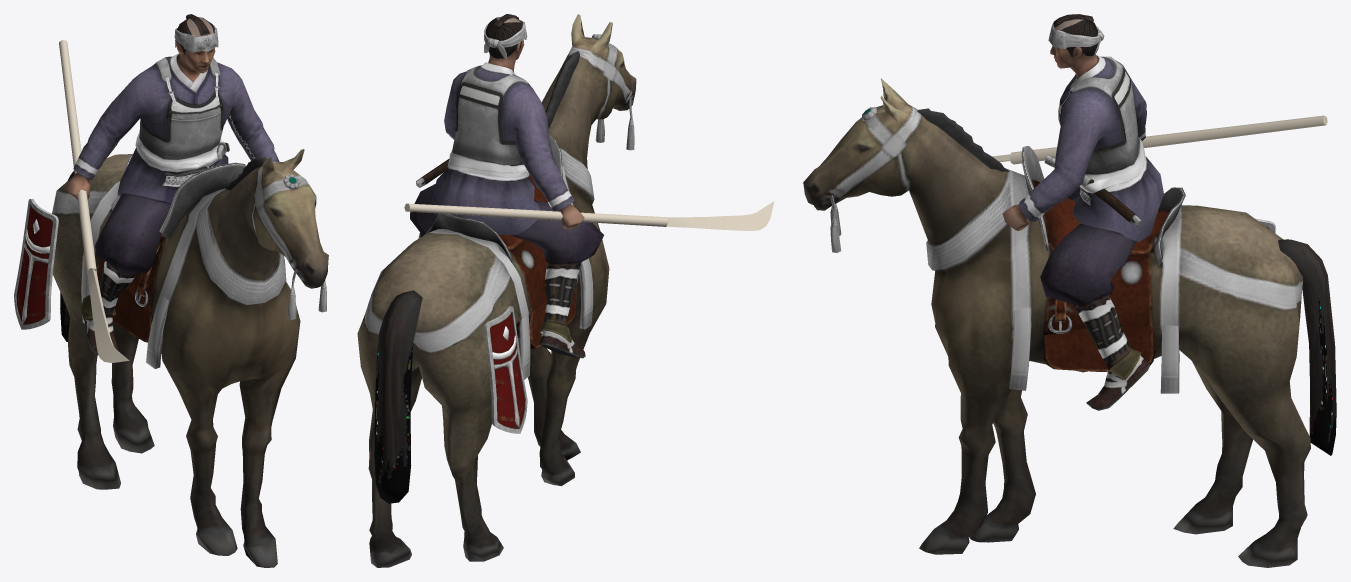
The model's file is 182-naginatarider.glb.
3 views of the same model, side by side, from view 1: azimuth 30°, elevation 25°; view 2: azimuth 150°, elevation 25°; view 3: azimuth 270°, elevation 25° (orthographic). The views are drawn at different scales.
Bounding box in the file's own units: 1.68 × 2.92 × 2.65.
Materials: 5 (4 with a texture image).
